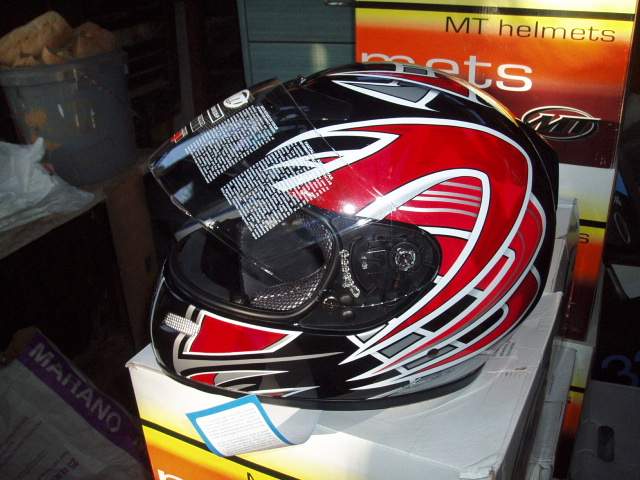helmet: (127, 81, 553, 408)
